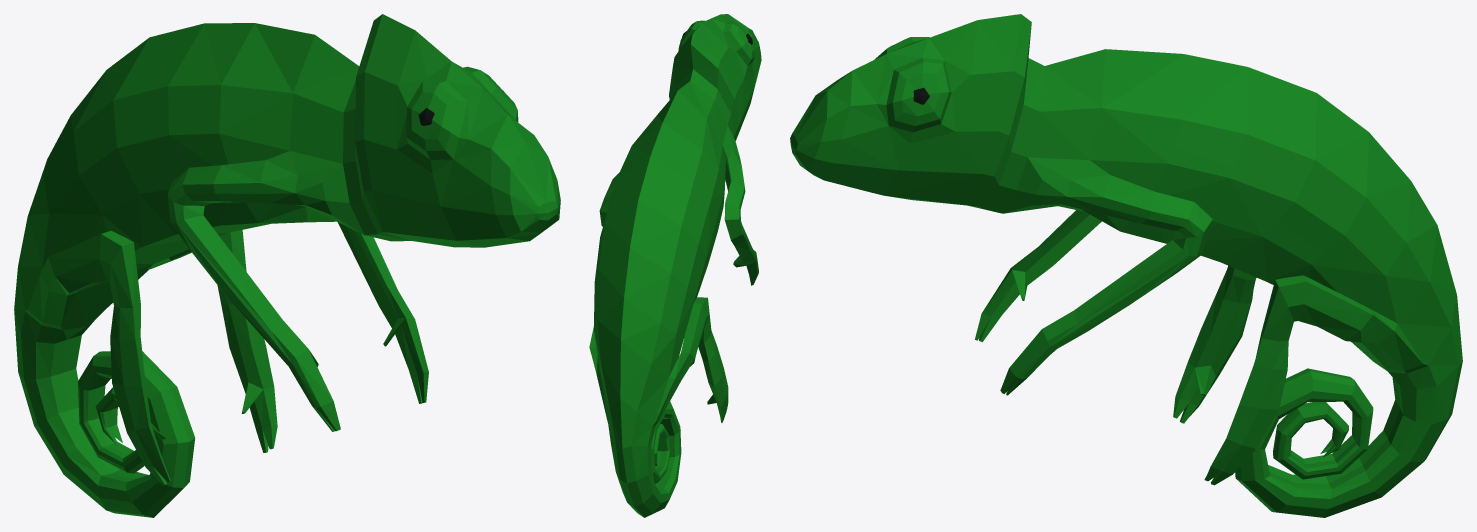
The model's file is ChameleonUp.fbx.
3 views of the same model, side by side, from view 1: azimuth 30°, elevation 25°; view 2: azimuth 150°, elevation 25°; view 3: azimuth 270°, elevation 25° (orthographic). The views are drawn at different scales.
Parts seen in each view (by area): view 1: Chameleon; view 2: Chameleon; view 3: Chameleon.
Boxes of the visible parts, x1=… form: Chameleon: x1=14, y1=14, x2=560, y2=517; Chameleon: x1=589, y1=14, x2=761, y2=517; Chameleon: x1=790, y1=14, x2=1462, y2=517.
Size of the model in its own units: 41.14 by 98.6 by 109.
